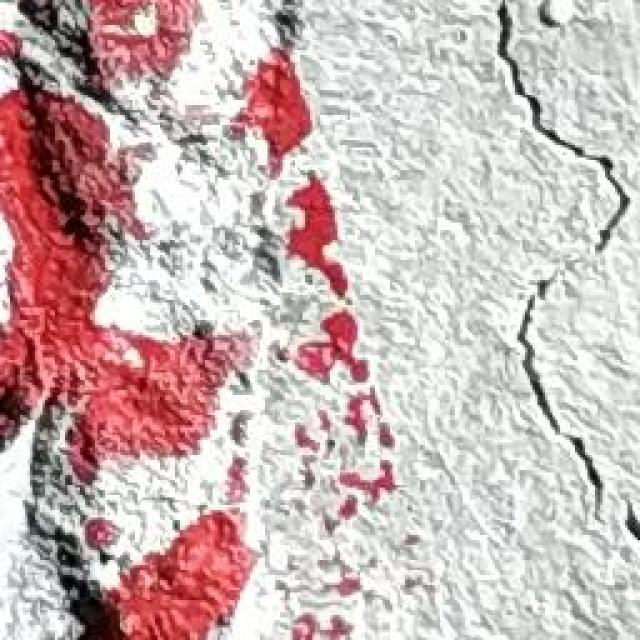Longitudinal: (433, 0, 640, 625)
Rippled: (0, 0, 390, 640)
